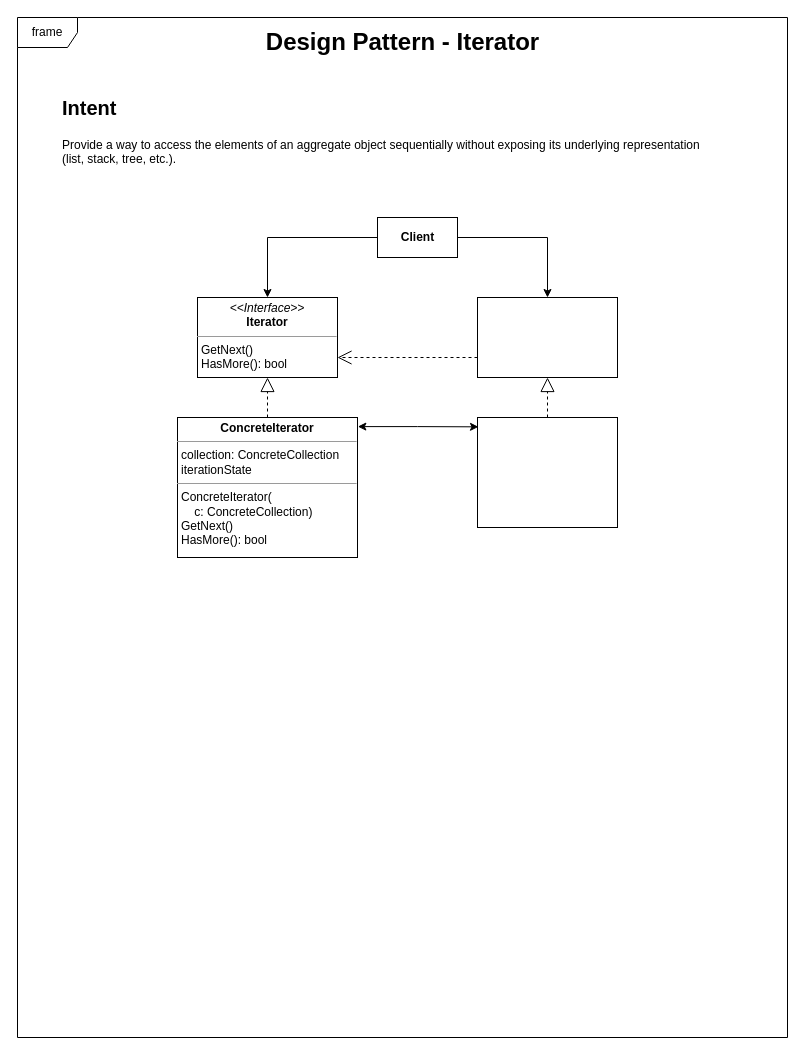
This 805x1055 diagram has some shape labels left out. Here are the shapes that lost their labels. From the top down, the centre of each, then its label:
point 547,337: <<Interface>> IterableCollection CreateIterator(): Iterator
point 547,472: ConcreteCollection ... ... CreateIterator(): Iterator
